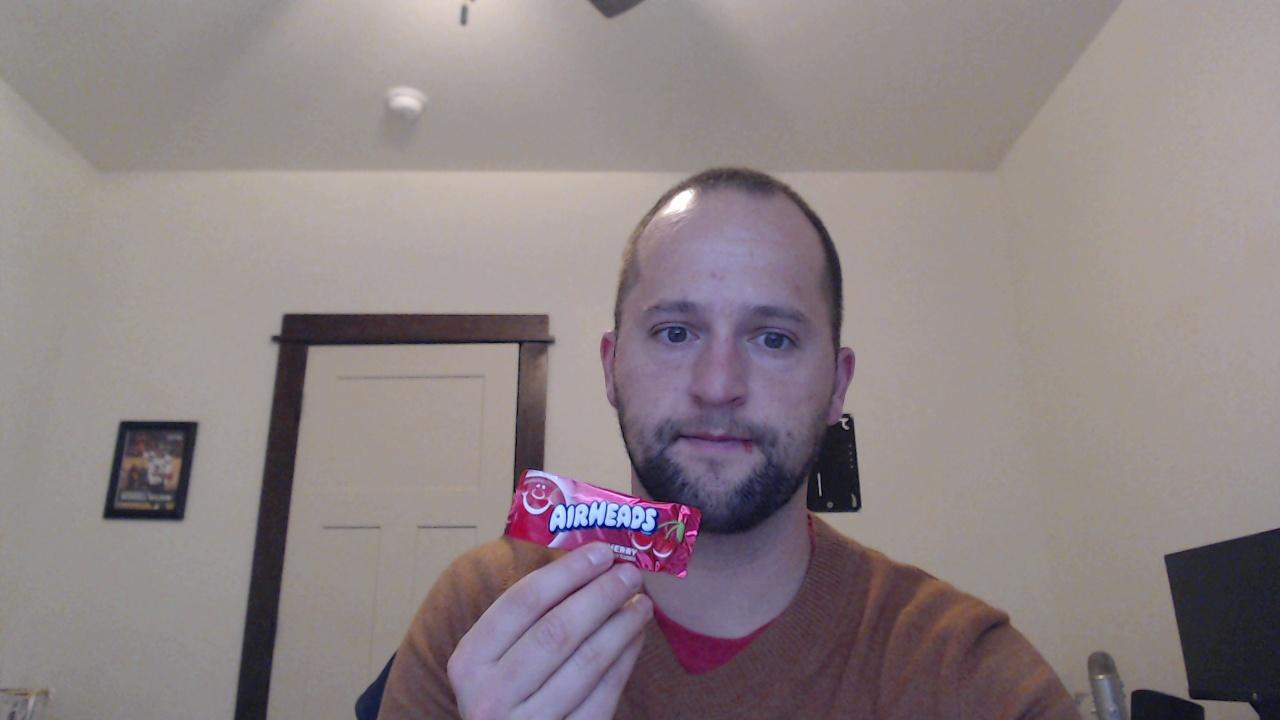airheads: (500, 471, 703, 579)
